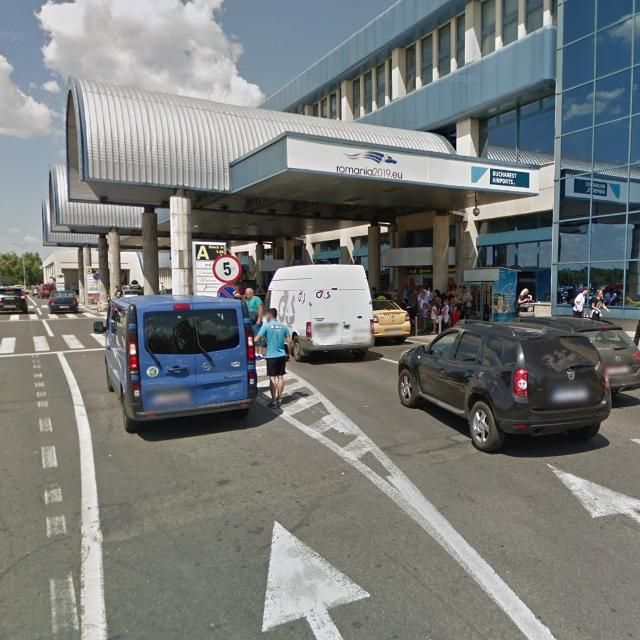forb_speed_over_5: (212, 254, 242, 284)
